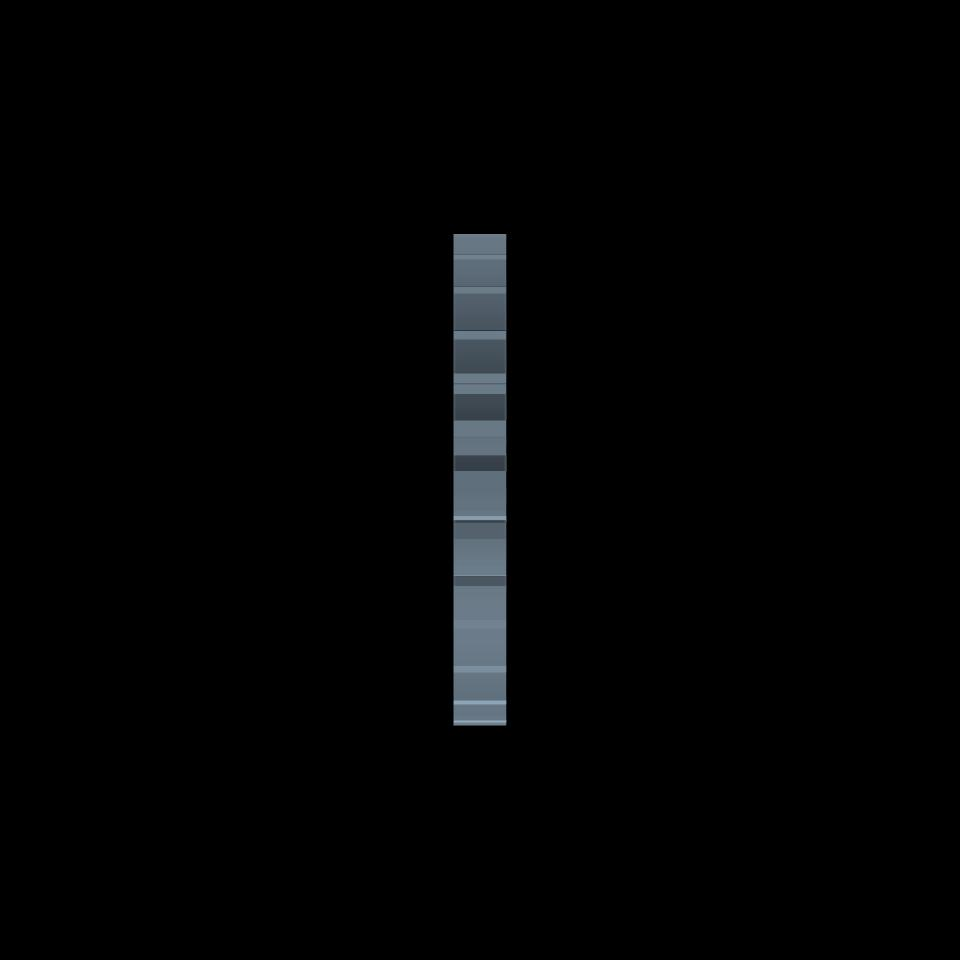Straight: (454, 235, 506, 724)
